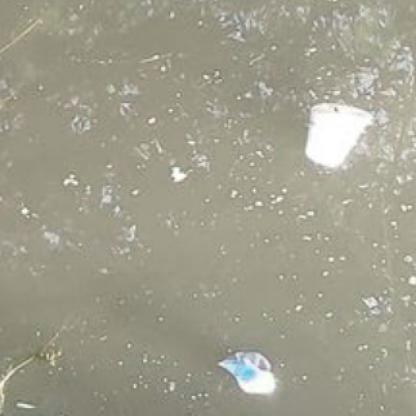Trash: (297, 98, 375, 171), (215, 349, 281, 397)
